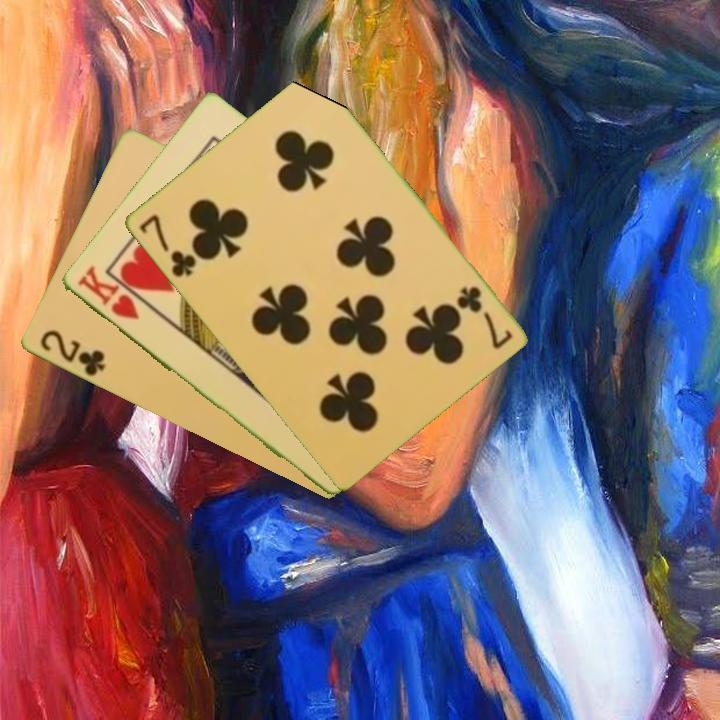2c: (35, 326, 108, 380)
7c: (135, 210, 199, 281), (453, 282, 515, 352)
Kh: (73, 263, 142, 323)
